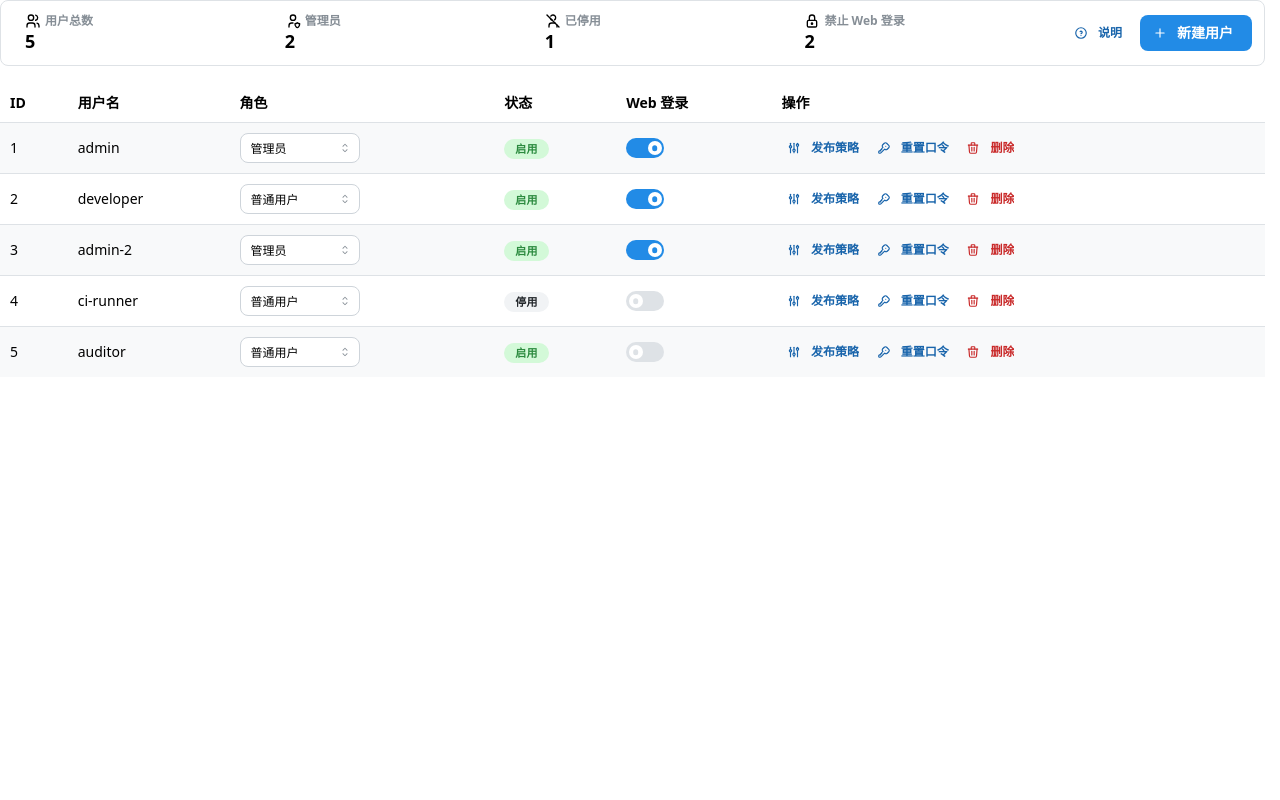
用户管理 › 可禁止 Web 登录并打开发布策略弹窗
Expected: the text "admin" is shown, x1=78 y1=138 x2=120 y2=157
Click the switch named "允许 Web 登录 admin".
click(645, 148)  # box x1=626 y1=138 x2=664 y2=158
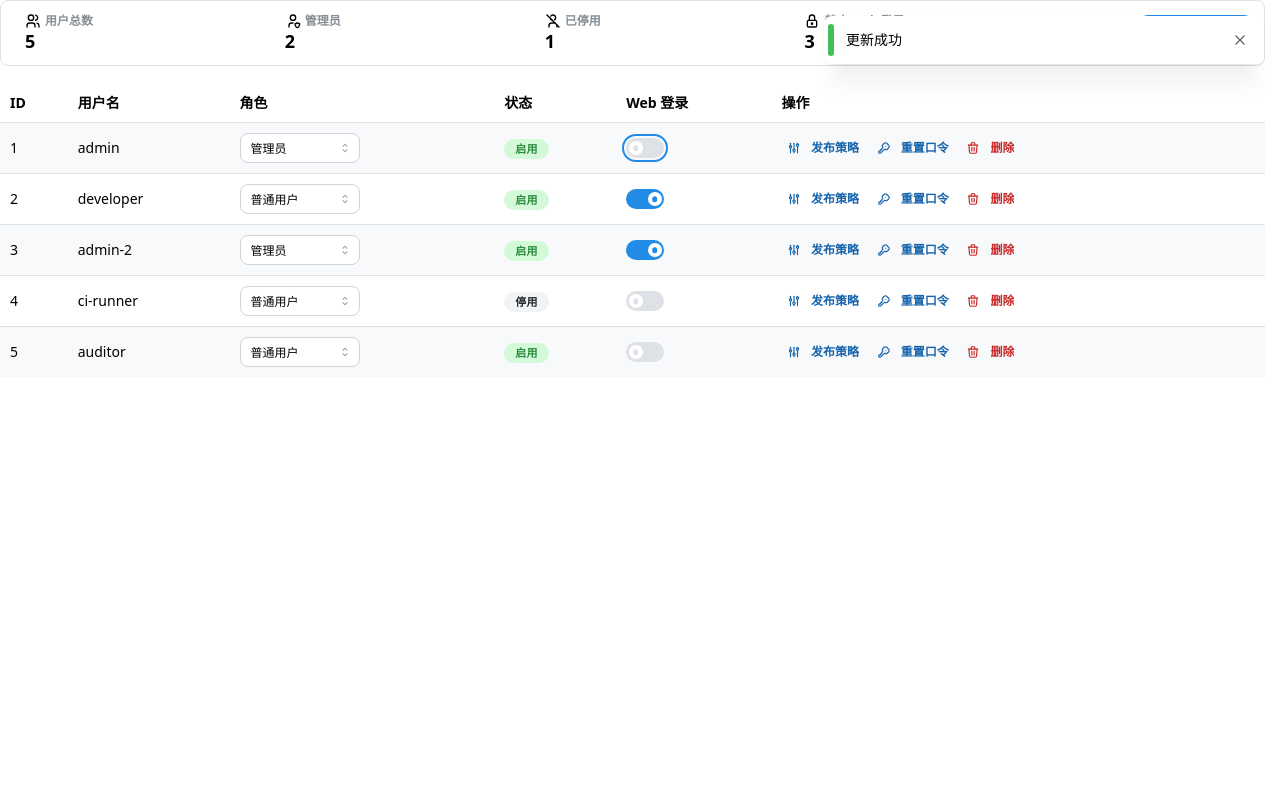
Expected: the text "admin" is shown, x1=78 y1=138 x2=120 y2=157
Now the switch named "允许 Web 登录 admin" is not checked, box x1=626 y1=138 x2=664 y2=158
Click the 1st button "发布策略".
click(824, 148)  # box x1=781 y1=137 x2=867 y2=159
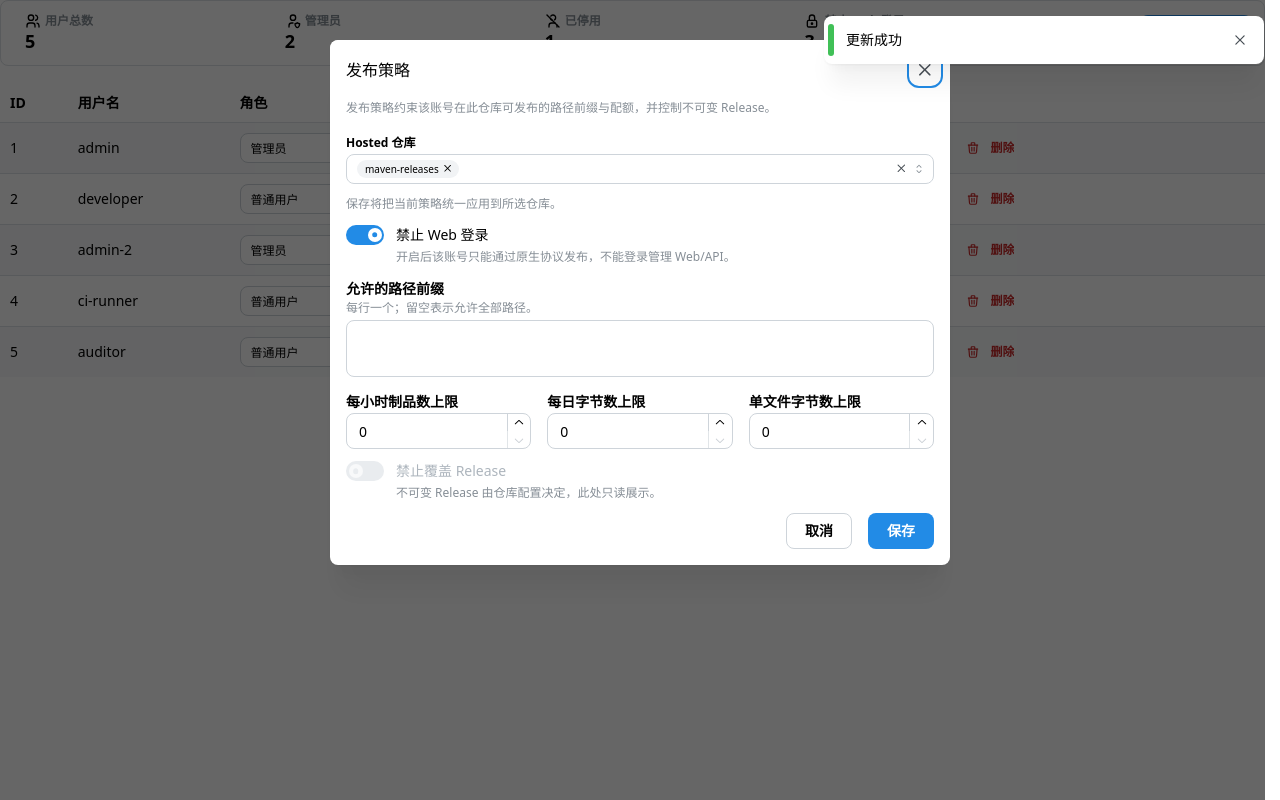
Now the text "允许的路径前缀" is shown, box x1=346 y1=278 x2=444 y2=300
Now the text "发布策略约束该账号在此仓库可发布的路径前缀与配额，并控制不可变 Release。" is shown, box x1=346 y1=99 x2=776 y2=116
